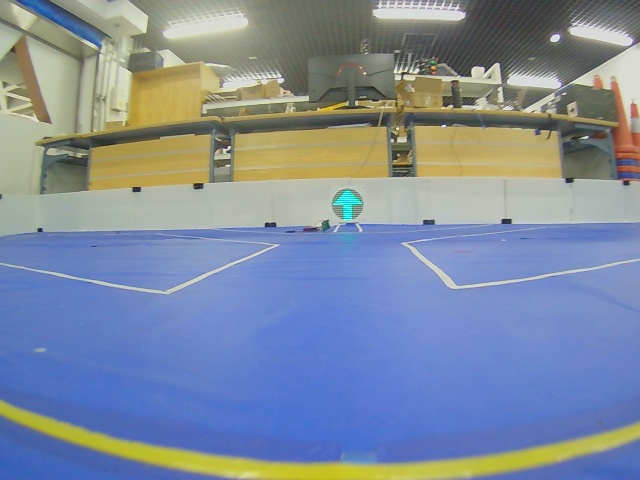straight_green: (332, 189, 363, 221)
